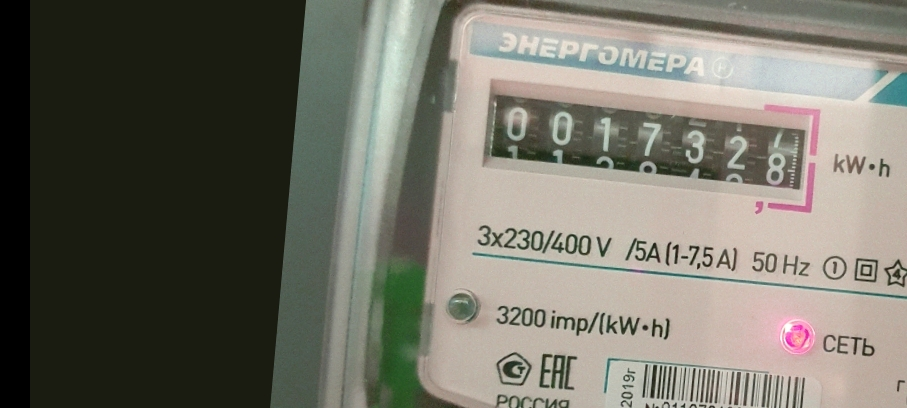0: (502, 102, 531, 144), (550, 108, 575, 148)
1: (594, 113, 615, 154)
2: (724, 133, 750, 171)
3: (683, 128, 708, 165)
7: (638, 119, 663, 159)
8: (765, 149, 786, 186)
screen: (470, 75, 832, 221)
